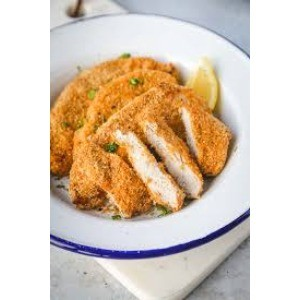chicken breast_brain food: (80, 94, 199, 194)
